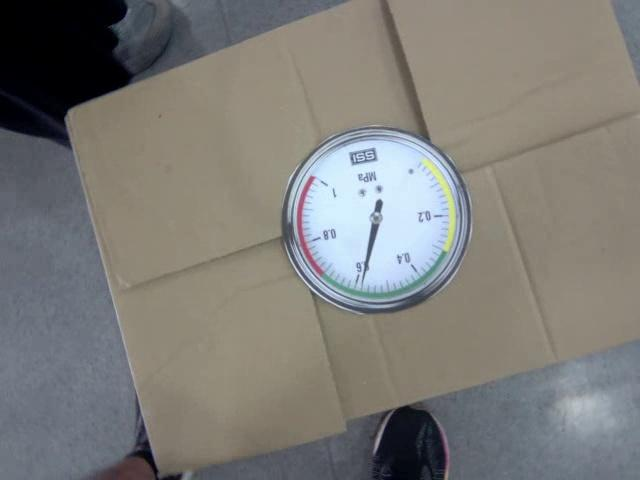Dashboard: (280, 123, 474, 318)
ssi: (345, 146, 378, 167)
